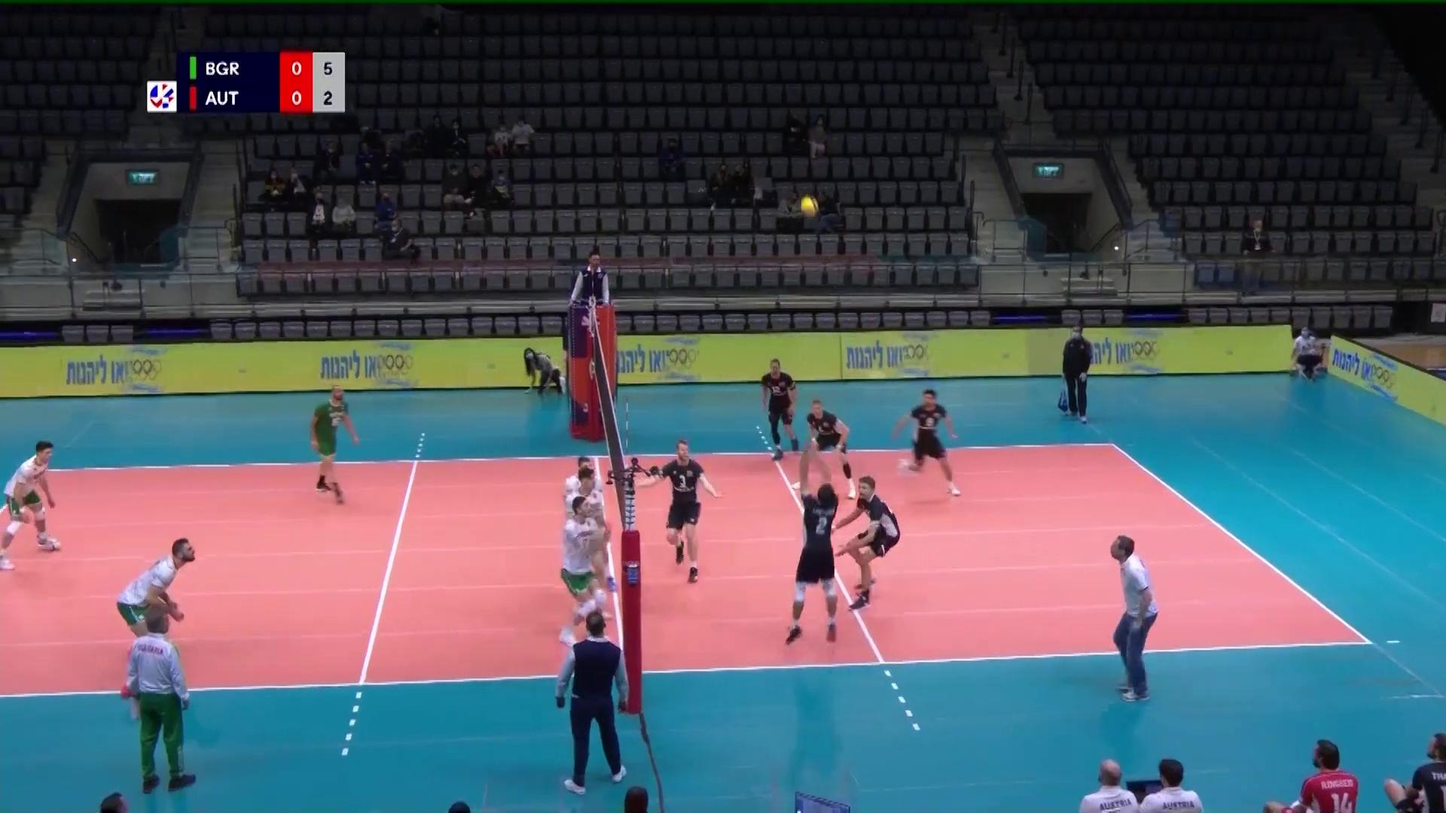ball: (799, 193, 820, 218)
